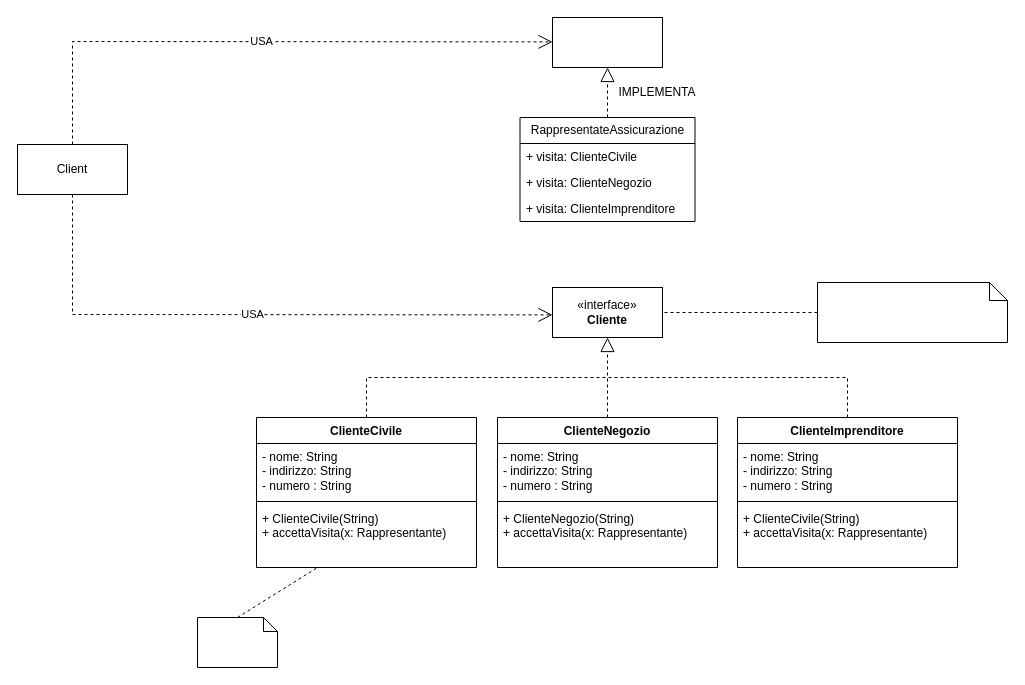
Some shapes in this 1025 by 685 pixel diagram are drawn without their labels. Each missing label, with the centre of its shape:
Può anche non esserci o essere una classe astratta: the point at 912,312
x.visita(this): the point at 237,642
«interface» Rappresentante: the point at 607,42
